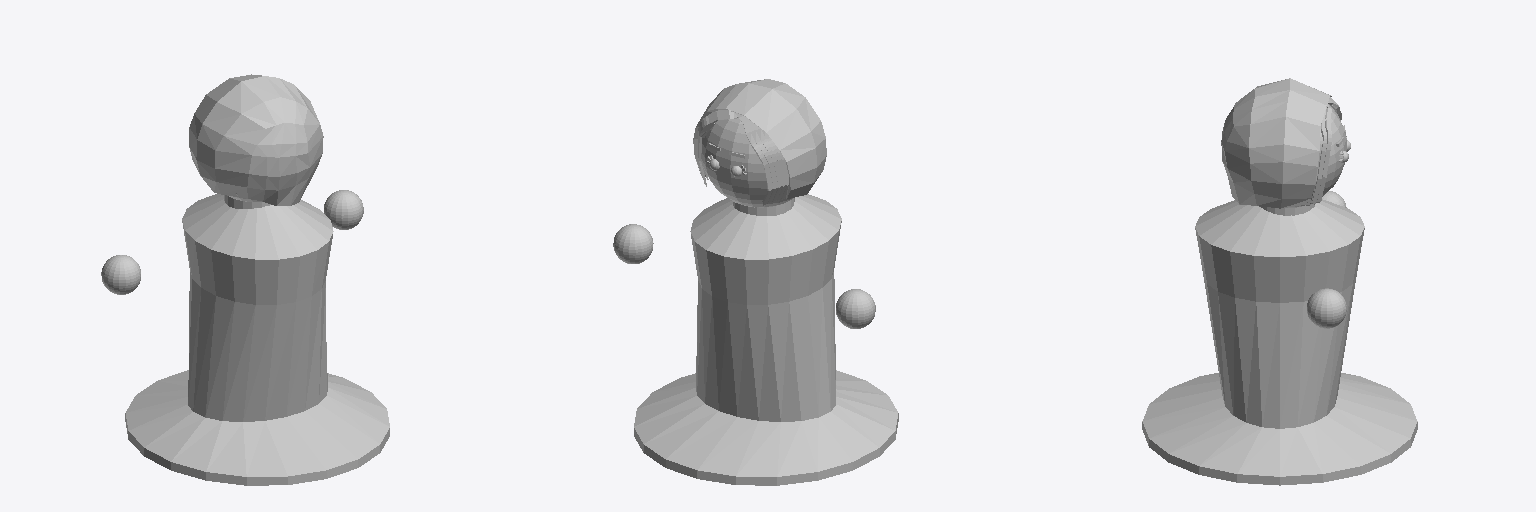
The model's file is Florence_With_Unwrapped_Uv`s.obj.
3 views of the same model, side by side, from view 1: azimuth 30°, elevation 25°; view 2: azimuth 150°, elevation 25°; view 3: azimuth 270°, elevation 25° (orthographic).
Parts seen in each view (by area): view 1: Florence_Mesh Florence_Nightingale, Florence_Nightingale Left_Hand, Florence_Nightingale Right_hand; view 2: Florence_Mesh Florence_Nightingale, Florence_Nightingale Right_hand, Florence_Nightingale Left_Hand; view 3: Florence_Mesh Florence_Nightingale, Florence_Nightingale Right_hand.
Boxes of the visible parts, <box> form: Florence_Mesh Florence_Nightingale: <box>125,74,389,485</box>; Florence_Nightingale Left_Hand: <box>101,255,140,294</box>; Florence_Nightingale Right_hand: <box>324,190,363,229</box>; Florence_Mesh Florence_Nightingale: <box>634,79,898,485</box>; Florence_Nightingale Right_hand: <box>613,224,653,263</box>; Florence_Nightingale Left_Hand: <box>836,289,875,328</box>; Florence_Mesh Florence_Nightingale: <box>1142,78,1417,485</box>; Florence_Nightingale Right_hand: <box>1307,288,1346,328</box>.
Bounding box in the file's own units: 4.35 × 5.59 × 4.03.